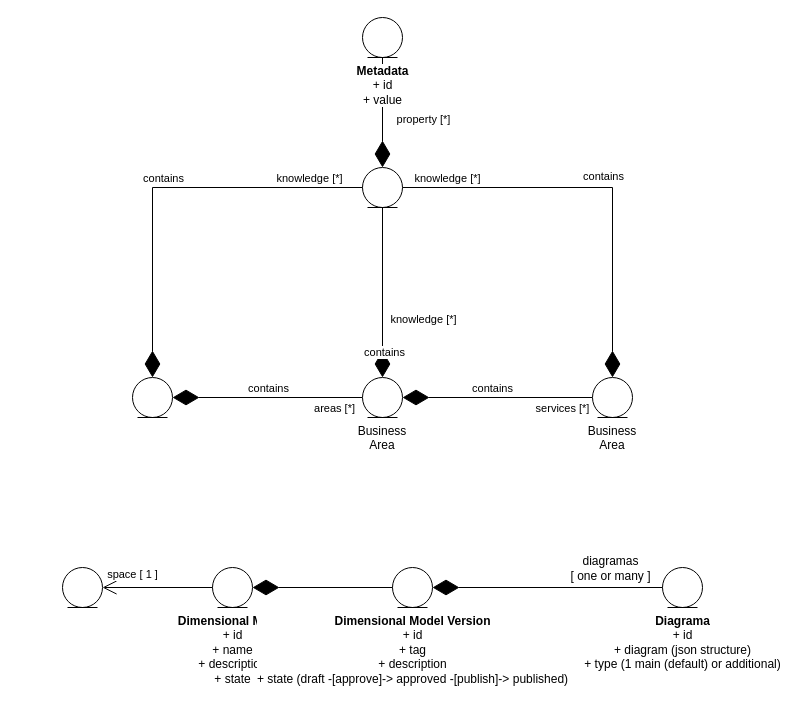
This 798x704 diagram has some shape labels left out. The shapes that lost their labels are listed below. From the top down, each one's centre as x and y in pixels, then its label:
point (382, 187): Knowledge Piece + id + headline content detail
point (152, 397): Business Domain
point (82, 587): Knowledge Space + id (guid) + name + description + state (active / inactive)
